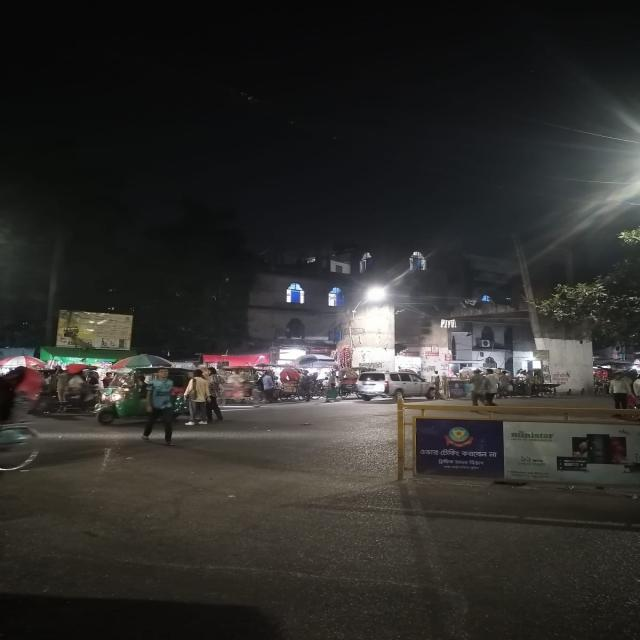person: (142, 368, 174, 446), (184, 370, 210, 425), (205, 367, 223, 422)
